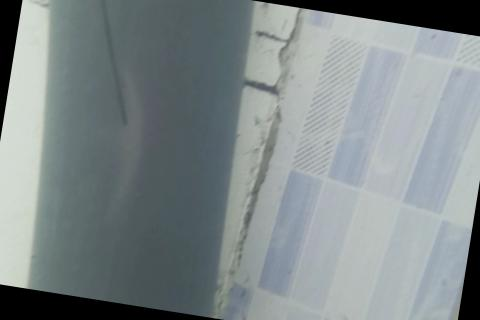keretakan: (68, 0, 151, 129)
